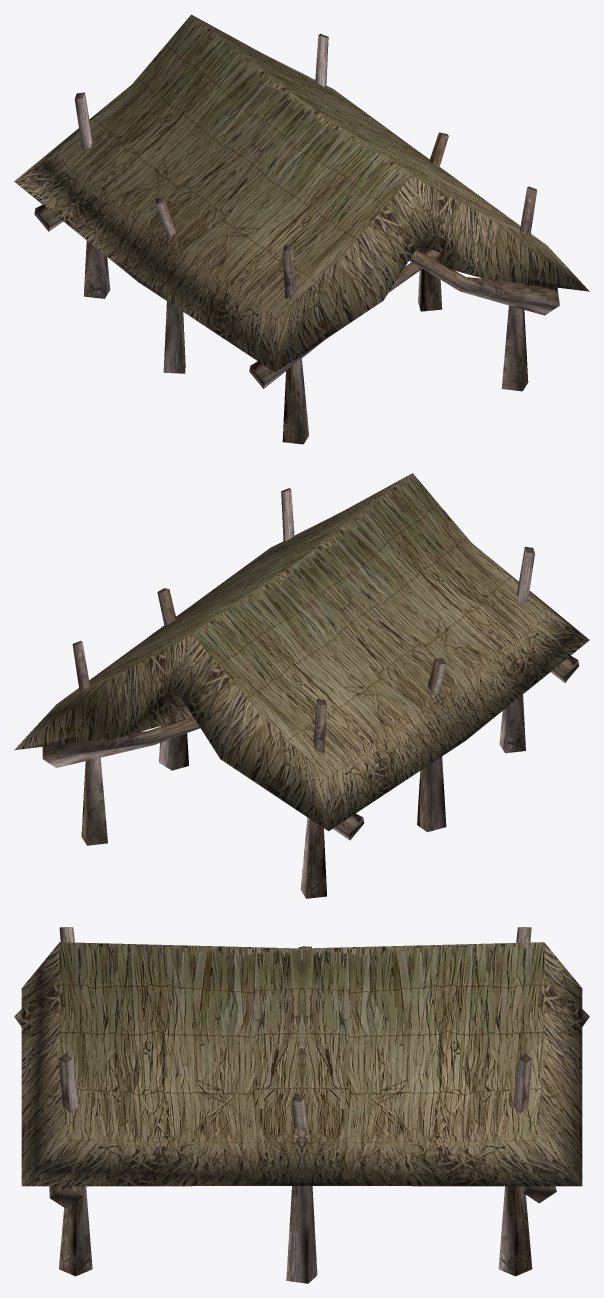
The model's file is house5-04.obj.
3 renders of one model, top to bottom at view 1: azimuth 30°, elevation 25°; view 2: azimuth 150°, elevation 25°; view 3: azimuth 270°, elevation 25°, orthographic. The views are drawn at different scales.
Size of the model in its own units: 6.19 by 4.43 by 8.63.
1 material, 1 textured.
